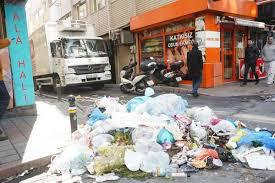Garbage: (91, 101, 187, 183), (71, 132, 267, 172), (132, 152, 185, 183), (53, 142, 97, 175), (223, 126, 274, 147), (199, 140, 228, 175), (150, 95, 184, 122), (188, 154, 223, 179), (139, 97, 170, 124), (191, 116, 221, 143), (91, 161, 125, 183), (124, 89, 152, 109), (155, 126, 174, 150), (57, 170, 82, 183), (181, 141, 202, 154)
